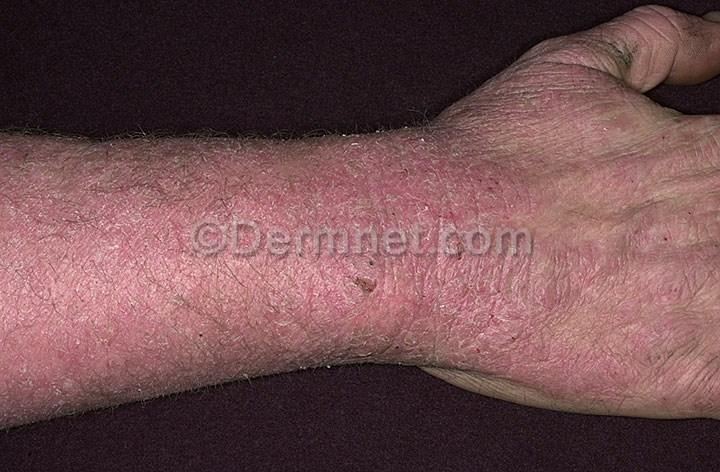Eczema: (285, 259, 530, 356), (4, 280, 264, 368), (10, 146, 156, 266), (204, 147, 440, 218), (460, 147, 566, 224), (560, 333, 643, 395), (542, 242, 612, 309), (526, 73, 616, 114), (631, 256, 691, 303)
